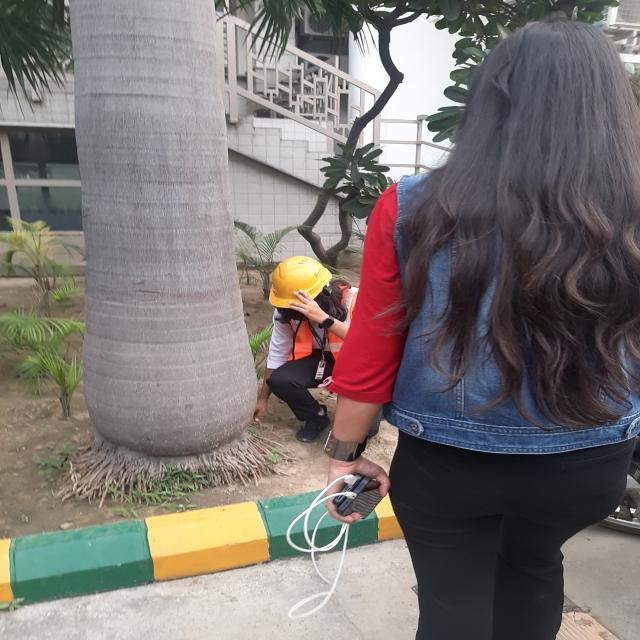safe: (252, 254, 364, 438)
unsafe: (350, 10, 640, 638)
